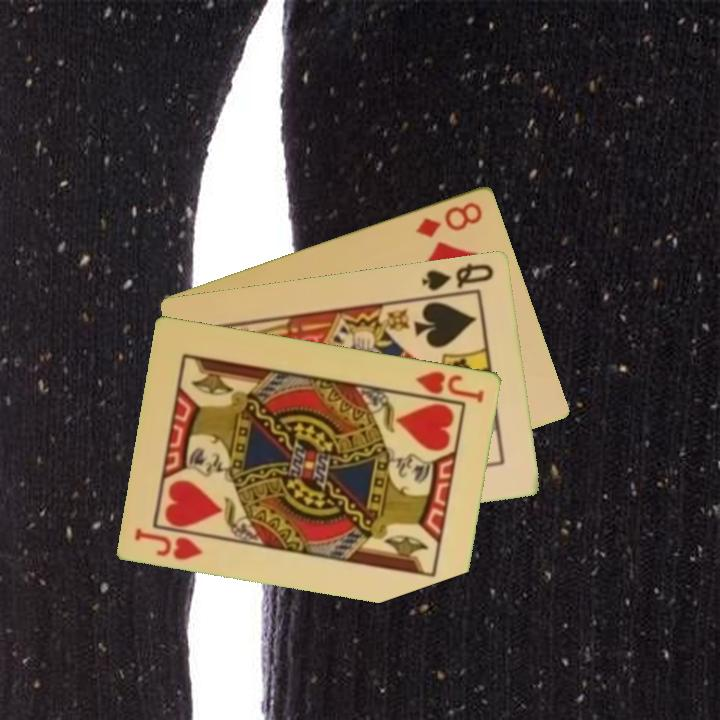8d: (412, 198, 486, 240)
Jh: (412, 367, 488, 406), (131, 524, 206, 563)
Qs: (418, 259, 497, 293)
